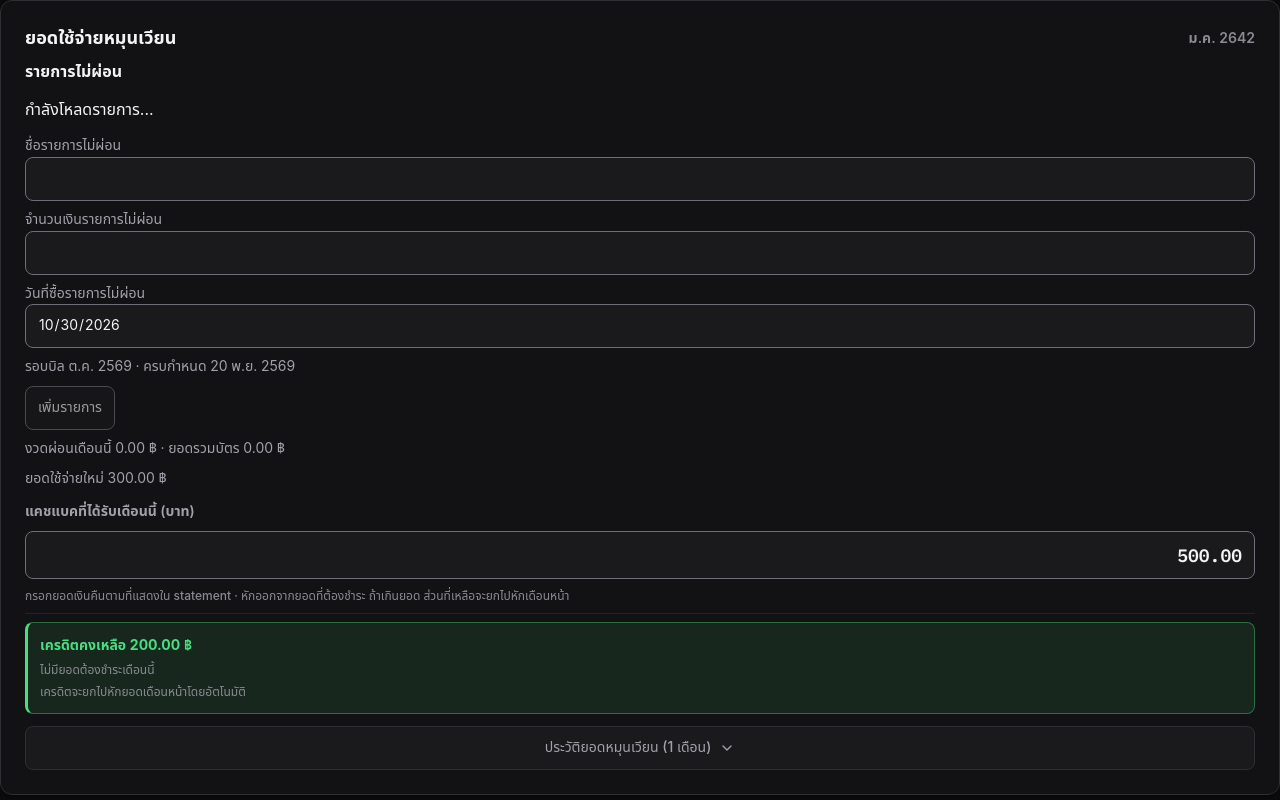
Test: RevolvingBalanceSection cashback states › AC-CB-69 + C-10 (mobile stack): credit wording, status, and cashback detail line
Expected: the field labelled "แคชแบคที่ได้รับเดือนนี้ (บาท)" is shown, [25,531,1255,579]
Click the button "ประวัติยอดหมุนเวียน (1 เดือน)". click: {"x": 640, "y": 748}
box: [25,726,1255,770]
(page scrolled)
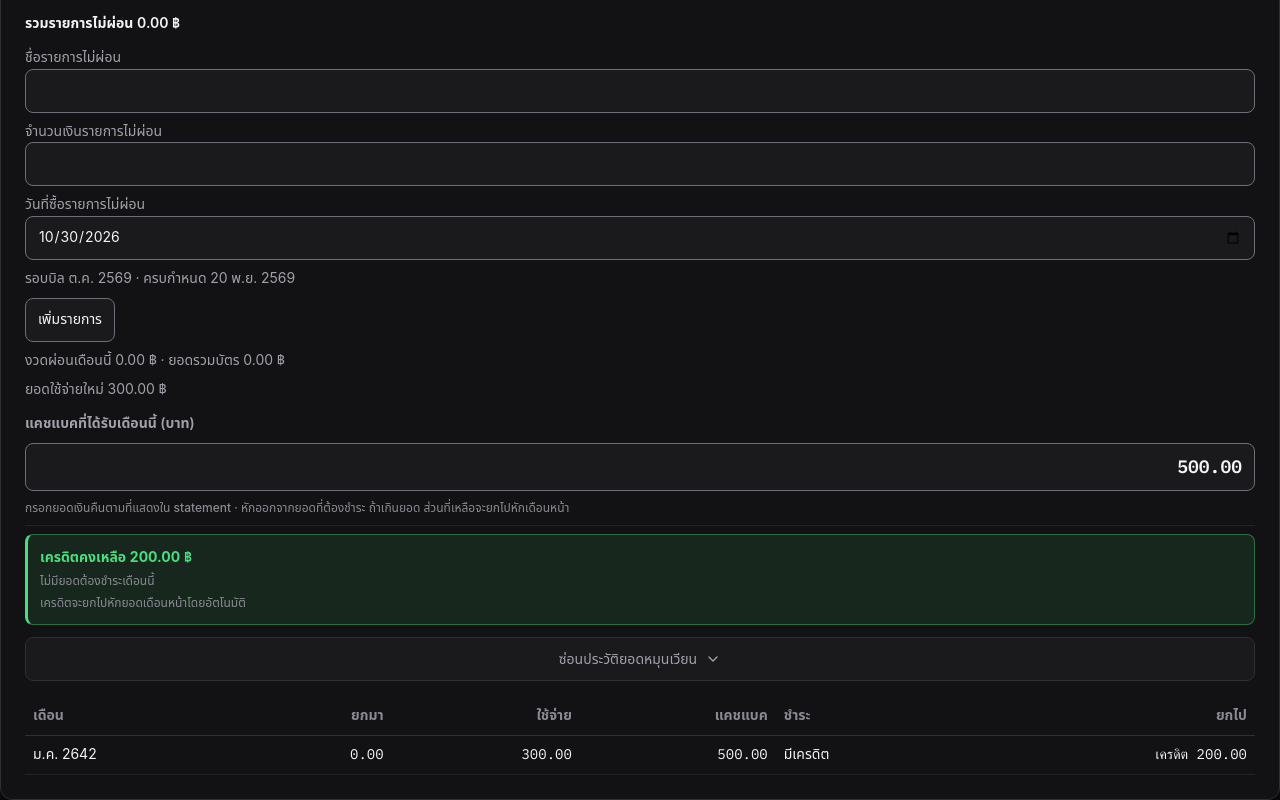
Result: the text "มีเครดิต" is shown at [776,736,950,774]
Result: the text "เครดิต 200.00" is shown at [950,736,1255,774]
